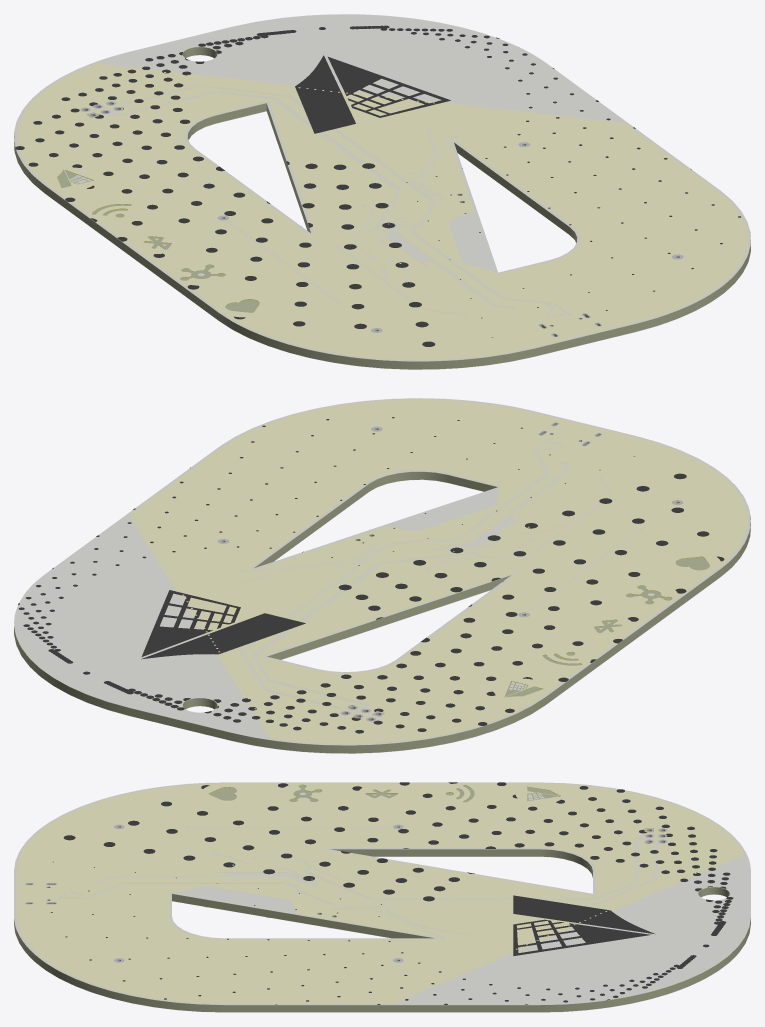
File: bornhack-2025-badge.glb
3 renders of one model, top to bottom at view 1: azimuth 30°, elevation 25°; view 2: azimuth 150°, elevation 25°; view 3: azimuth 270°, elevation 25°, orthographic. The views are drawn at different scales.
Visible parts, largest first — view 1: =>[0:1:1:7], =>[0:1:1:2], =>[0:1:1:9], =>[0:1:1:5]; view 2: =>[0:1:1:7], =>[0:1:1:2], =>[0:1:1:9], =>[0:1:1:5]; view 3: =>[0:1:1:7], =>[0:1:1:2], =>[0:1:1:9], =>[0:1:1:5].
Boxes of the visible parts, left/top/right/bottom form: =>[0:1:1:7]: left=14, top=14, right=750, bottom=369; =>[0:1:1:2]: left=17, top=64, right=747, bottom=359; =>[0:1:1:9]: left=14, top=15, right=750, bottom=369; =>[0:1:1:5]: left=15, top=25, right=740, bottom=346; =>[0:1:1:7]: left=14, top=398, right=750, bottom=753; =>[0:1:1:2]: left=129, top=400, right=747, bottom=743; =>[0:1:1:9]: left=14, top=399, right=750, bottom=753; =>[0:1:1:5]: left=18, top=417, right=724, bottom=733; =>[0:1:1:7]: left=14, top=782, right=750, bottom=1012; =>[0:1:1:2]: left=17, top=784, right=743, bottom=1003; =>[0:1:1:9]: left=14, top=783, right=750, bottom=1012; =>[0:1:1:5]: left=46, top=782, right=733, bottom=1004.
Bounding box in the file's own units: 0.1 × 0.00166 × 0.14.
4 materials, 4 textured.
